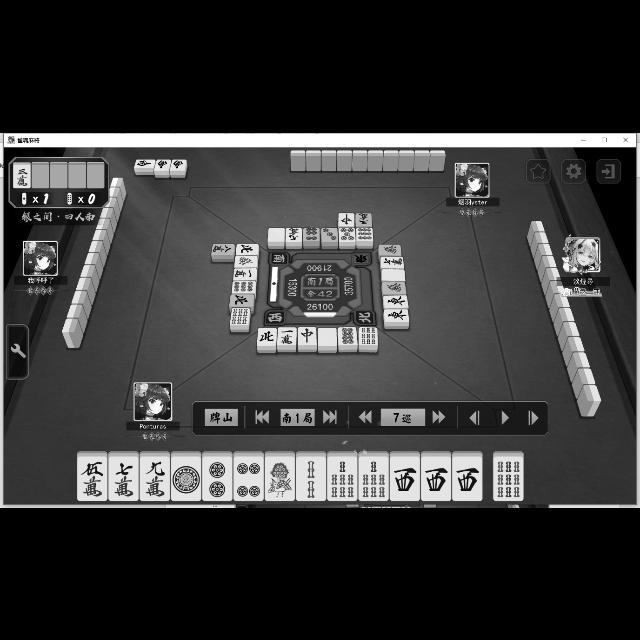1m: (234, 266, 258, 280), (278, 327, 296, 345)
1p: (170, 458, 200, 500)
1s: (264, 455, 296, 501)
2p: (202, 456, 232, 499)
2s: (296, 456, 326, 500)
3m: (14, 165, 31, 188), (355, 212, 371, 226)
3p: (320, 227, 338, 240)
4p: (233, 456, 264, 499)
5m: (76, 456, 108, 499)
5p: (338, 226, 356, 240)
6p: (303, 227, 319, 240)
6s: (232, 308, 248, 324)
7m: (108, 456, 138, 499), (381, 256, 404, 268)
7s: (327, 456, 357, 500), (358, 456, 388, 500)
8m: (212, 242, 234, 254)
8p: (338, 326, 357, 344)
9m: (138, 456, 170, 499), (286, 227, 302, 241)
9p: (232, 280, 256, 292), (357, 227, 373, 240)
9s: (493, 456, 523, 500), (358, 326, 378, 344)
chun: (298, 327, 316, 345), (338, 212, 354, 226)
haku: (318, 327, 338, 345), (382, 268, 406, 280), (268, 227, 284, 241)
hatsu: (382, 282, 406, 294), (379, 243, 401, 255), (235, 256, 258, 266)
nan: (132, 158, 154, 168), (170, 158, 188, 170), (154, 158, 170, 170)
pe: (230, 292, 254, 306), (258, 327, 276, 345), (235, 242, 259, 254)
sha: (422, 454, 452, 500), (390, 456, 420, 500), (452, 456, 482, 500)
tou: (382, 295, 408, 307), (384, 309, 408, 321)
